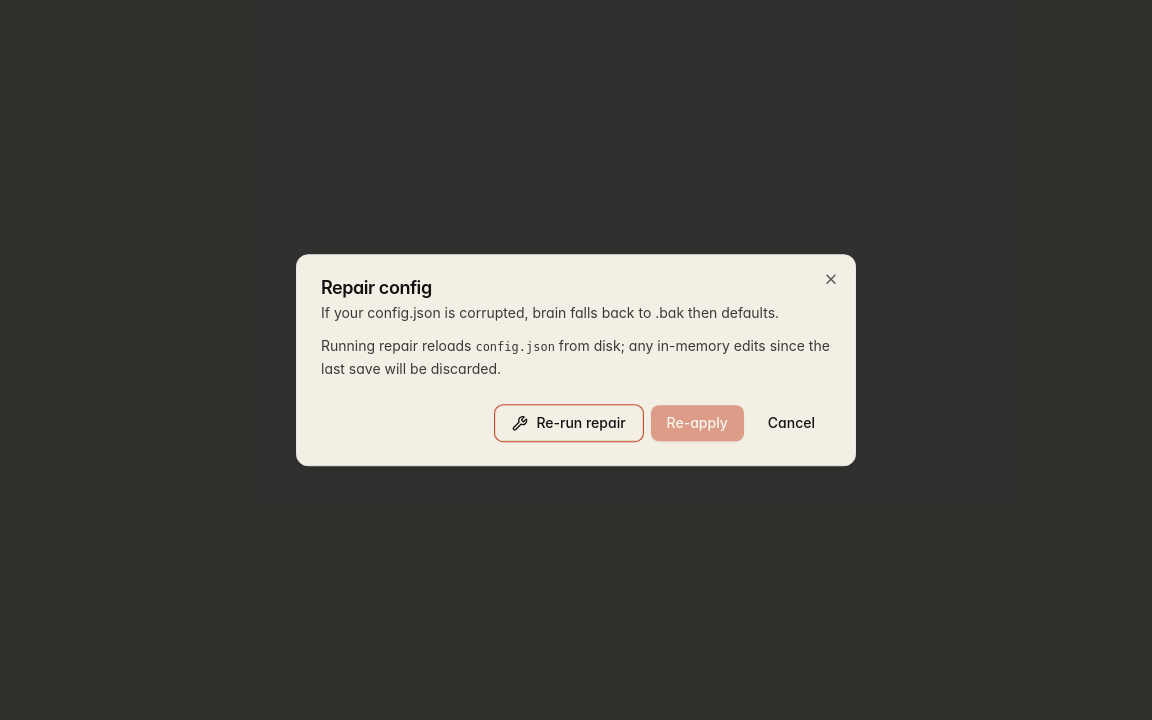
Scenario: RepairConfigDialog — Re-apply flow › Re-apply failure renders inline error and keeps dialog open
Expected: the dialog is shown, [296, 254, 856, 466]
Click the button "Re-run repair" at (569, 423), box [495, 405, 643, 441]
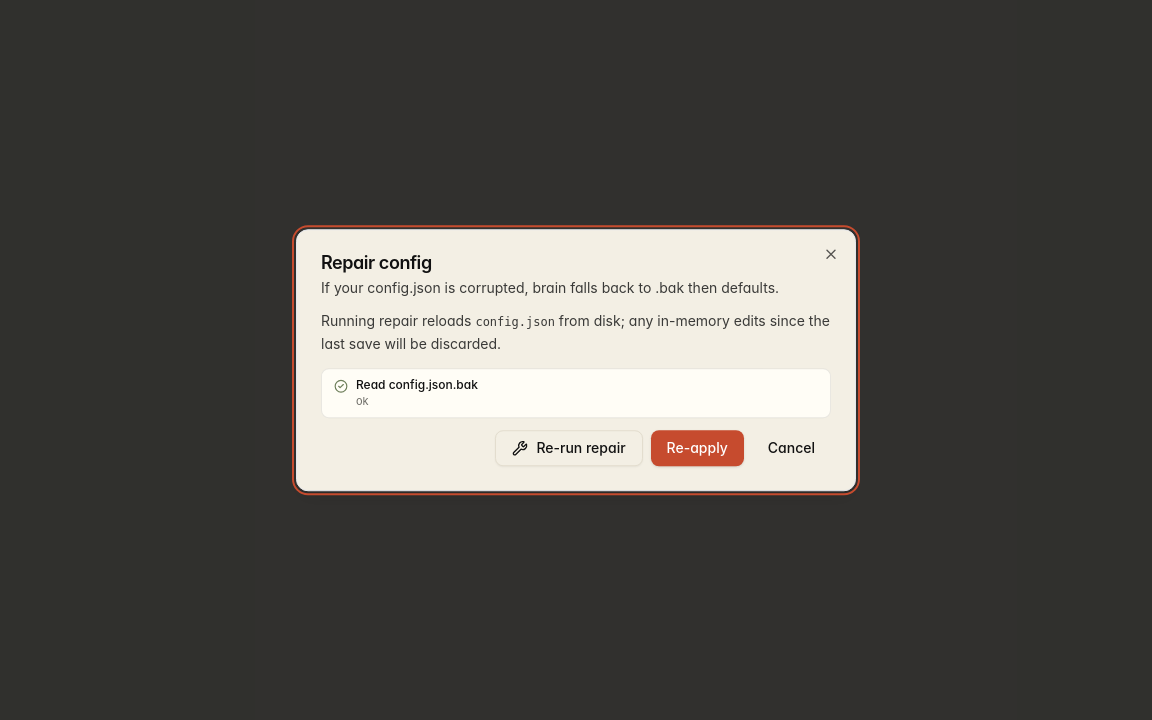
Result: the button "Re-apply" is enabled
Click the button "Re-apply" at (697, 448), box [651, 430, 744, 466]
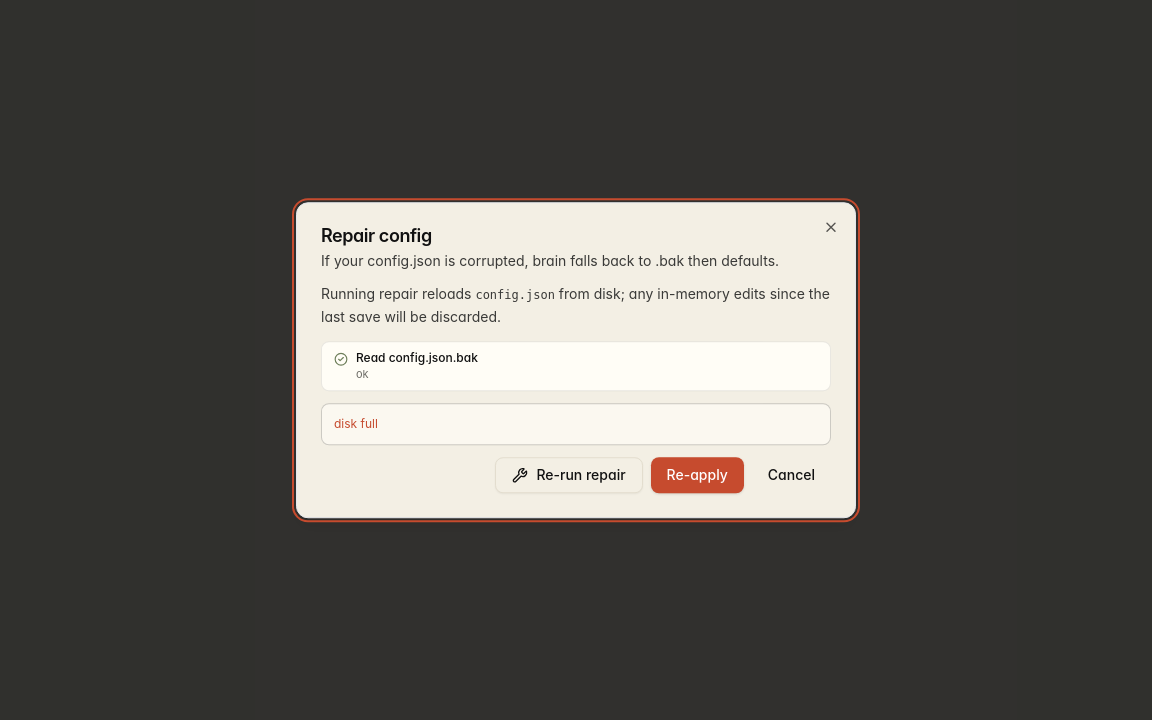
Expected: the dialog is shown, [296, 202, 856, 518]
Result: the message "disk full" is shown at [321, 403, 831, 445]
